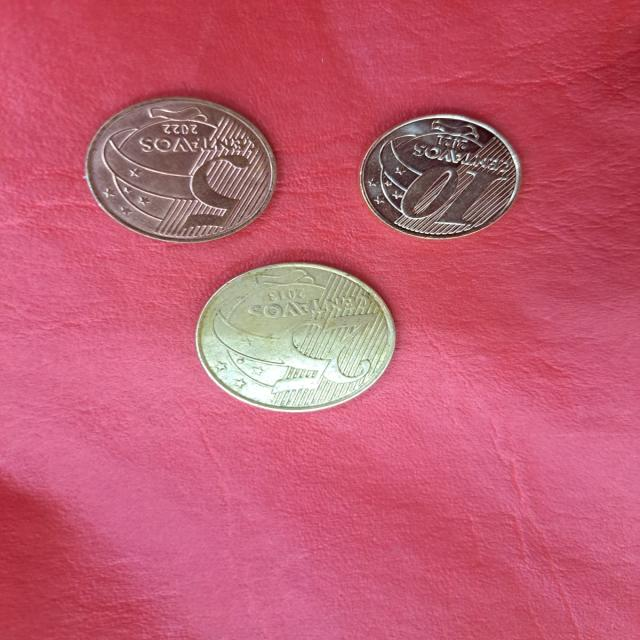25 cents: (192, 260, 405, 422)
